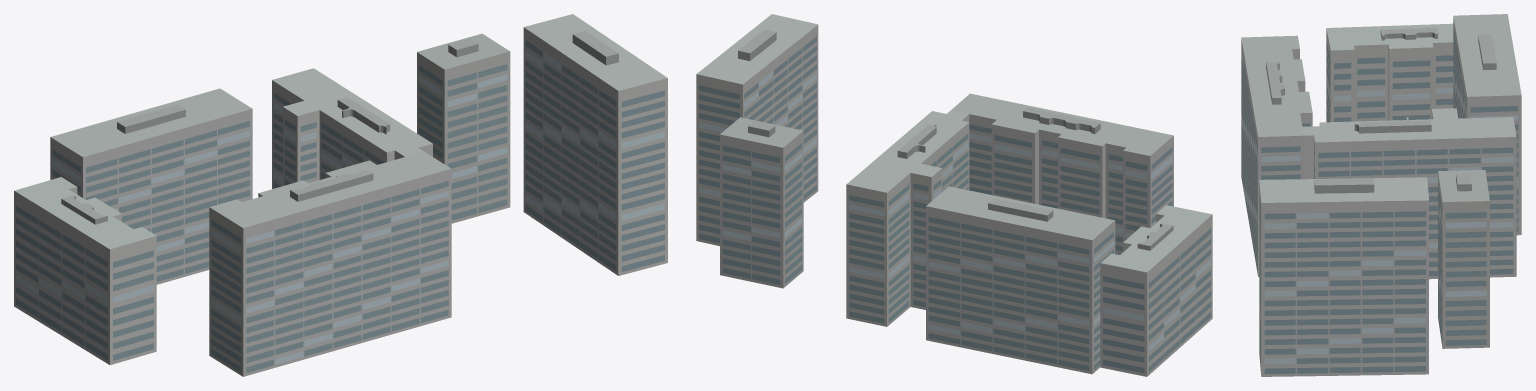
File: apt-a13924205.glb
The picture shows the model from 3 angles, left to right: view 1: azimuth 30°, elevation 25°; view 2: azimuth 150°, elevation 25°; view 3: azimuth 270°, elevation 25°; orthographic projection. The views are drawn at different scales.
Visible parts, largest first — view 1: apt-a13924205; view 2: apt-a13924205; view 3: apt-a13924205.
Part boxes in pixels (x1,y1,x2,y2): apt-a13924205: [14, 14, 667, 376]; apt-a13924205: [696, 14, 1212, 376]; apt-a13924205: [1241, 14, 1521, 376].
Bounding box in the file's own units: 147 × 51 × 71.12.
